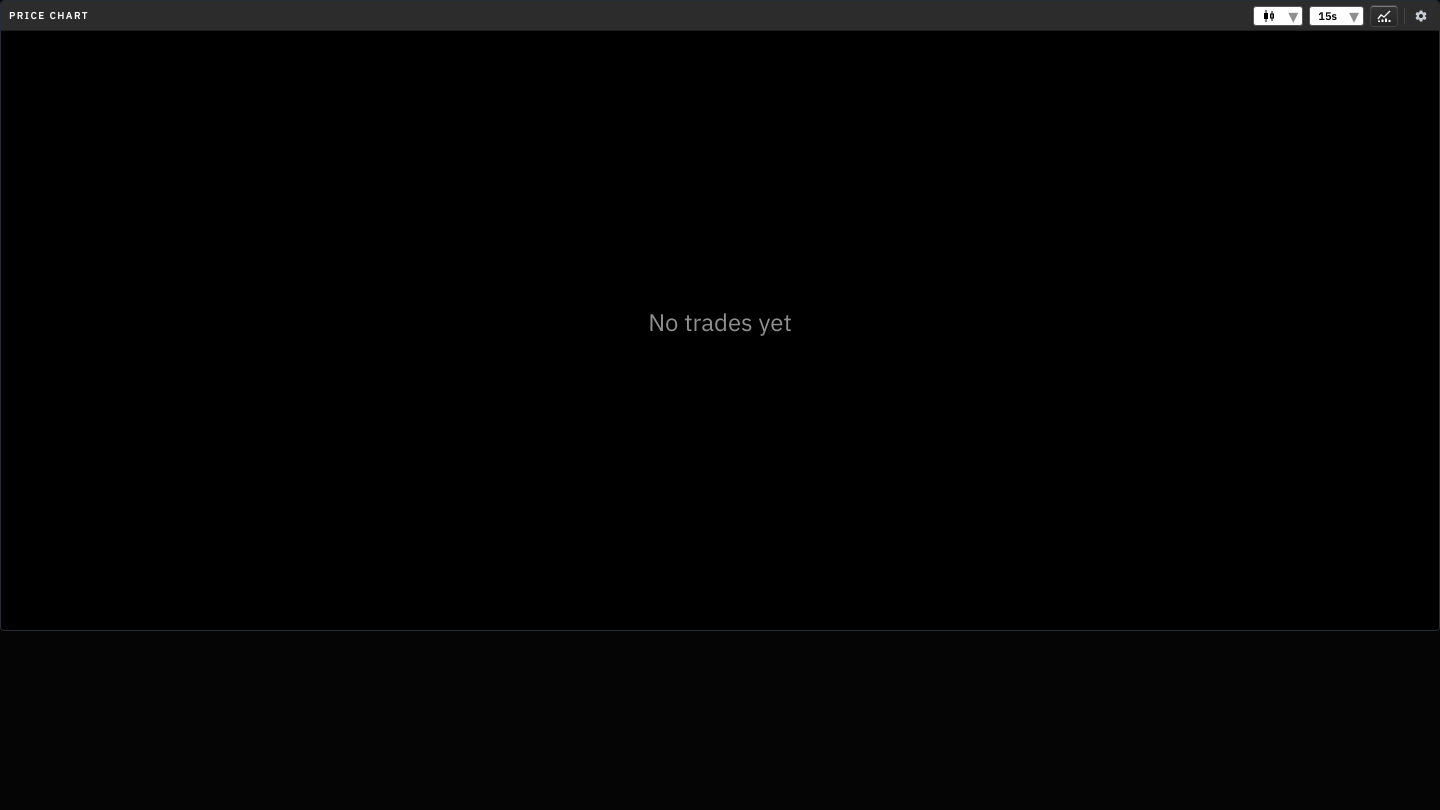
page band › the Indicators popup carries the pane-cap note
Click the button with test id "pc-ind-button" at (1384, 16), box [1370,4,1398,26]
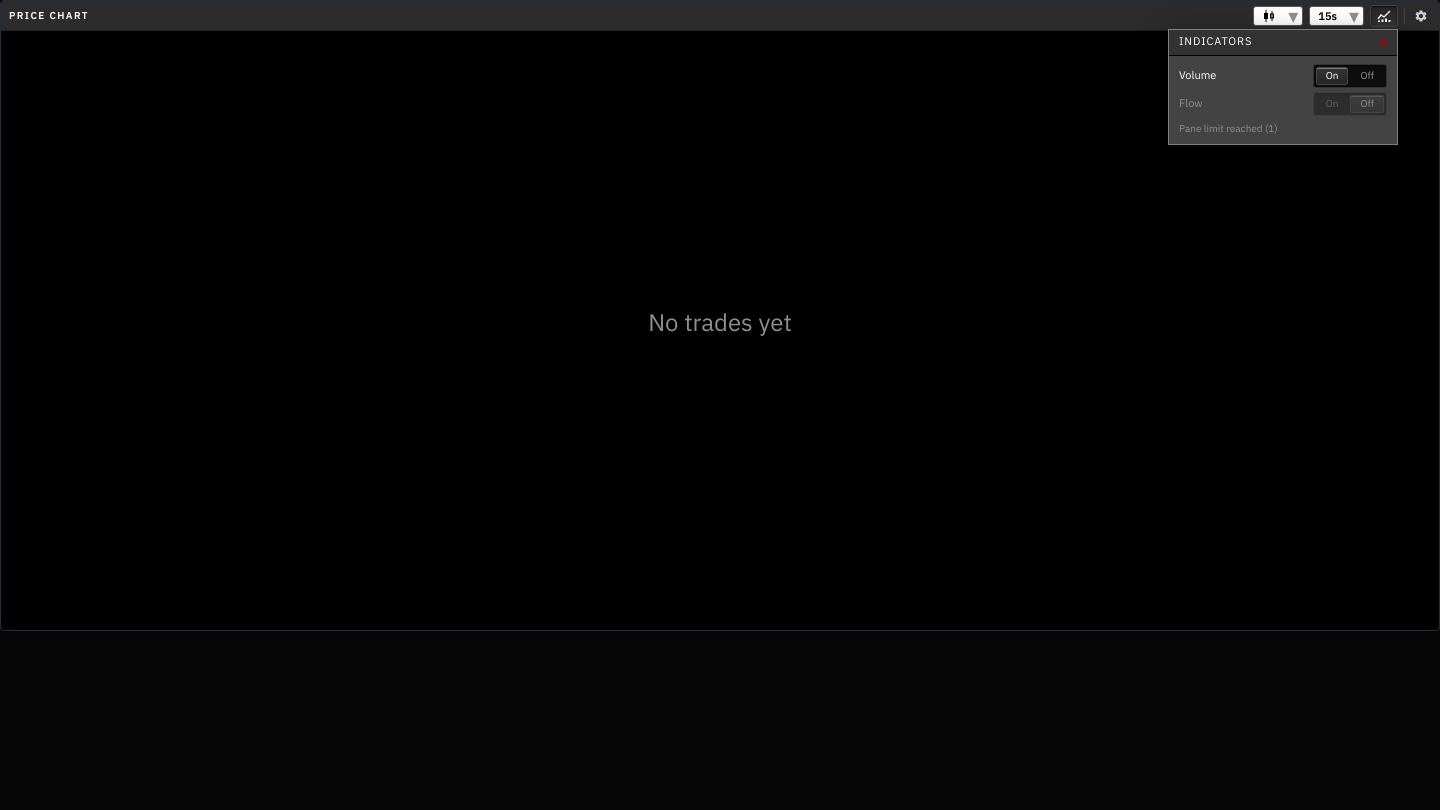
Expected: the text with test id "pc-pane-limit" reads "Pane limit reached (1)", [1179,122,1278,134]
